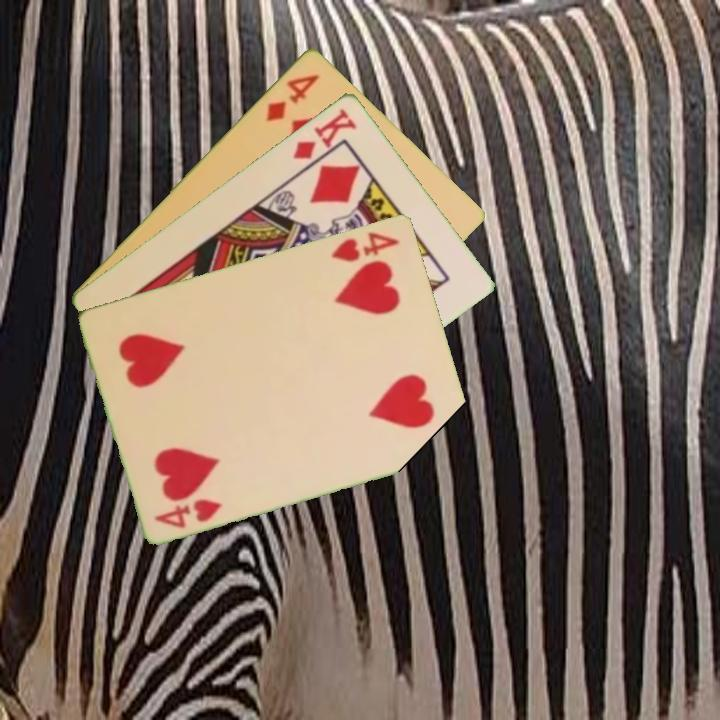4d: (262, 69, 323, 124)
4h: (327, 227, 402, 265), (151, 494, 225, 531)
Kd: (289, 104, 360, 162)
